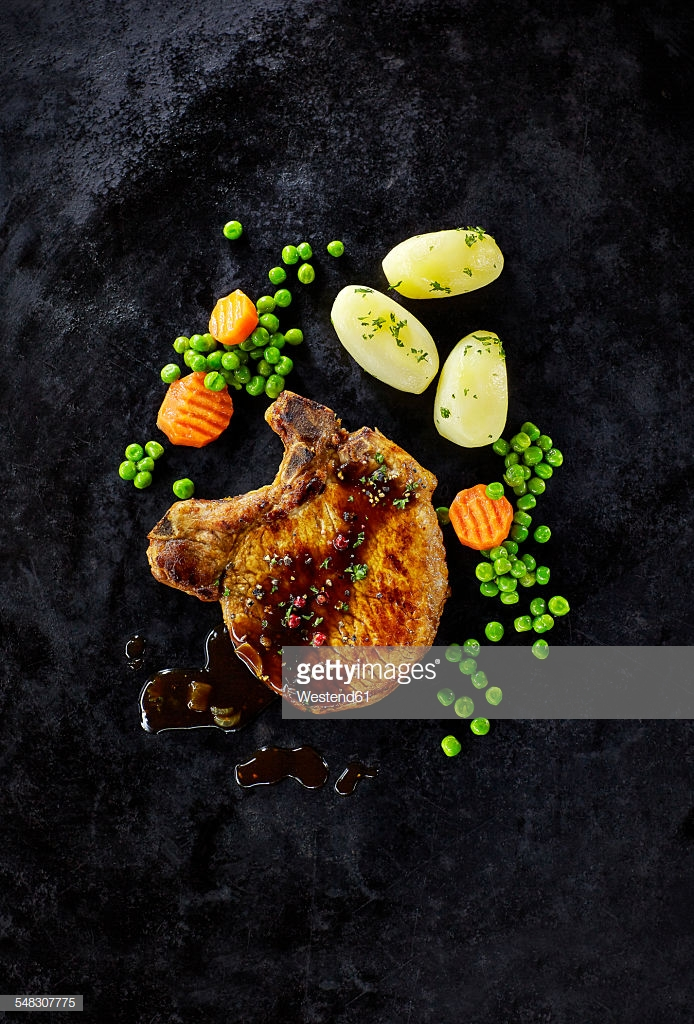boiled peas: (510, 431, 555, 631), (189, 341, 276, 392)
boiled potatoes: (336, 278, 429, 398), (440, 333, 510, 459), (383, 233, 513, 296)
